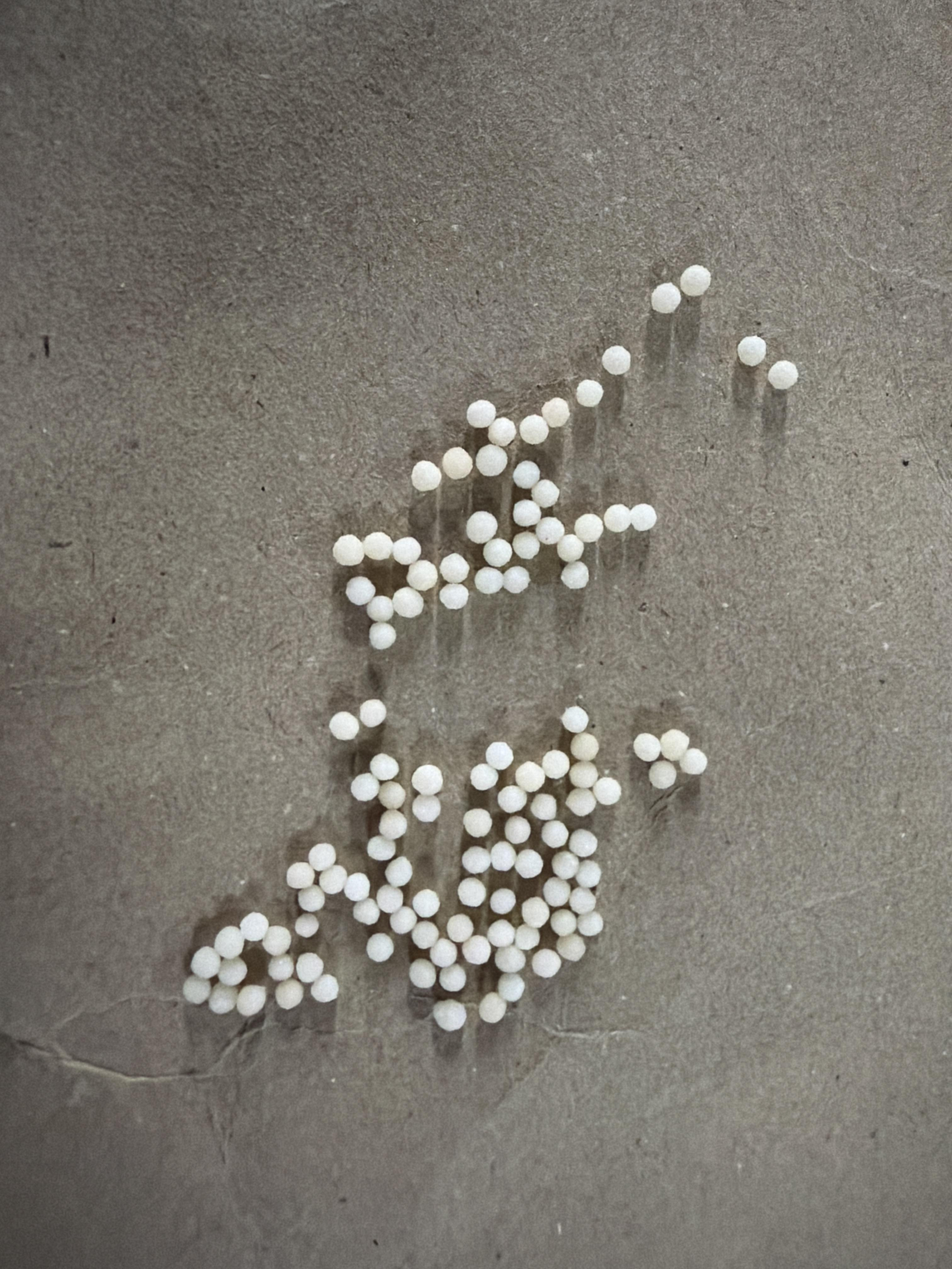pill: (763, 356, 826, 396), (436, 443, 476, 477), (578, 370, 607, 416), (604, 345, 645, 374), (241, 915, 282, 940), (538, 406, 581, 429), (463, 757, 497, 786), (471, 444, 504, 473), (409, 458, 439, 488), (345, 575, 377, 603), (302, 886, 334, 913), (529, 411, 552, 447), (461, 513, 502, 533), (316, 841, 346, 868), (447, 993, 470, 1028), (686, 268, 717, 292), (642, 770, 681, 789), (653, 280, 679, 308), (365, 532, 399, 553), (581, 734, 615, 755), (505, 970, 528, 1000), (373, 740, 399, 766), (409, 960, 433, 988), (313, 982, 345, 1003), (485, 748, 520, 767), (518, 570, 543, 596), (335, 532, 363, 555), (485, 992, 506, 1022), (290, 858, 315, 883), (560, 932, 586, 956), (546, 746, 568, 774), (513, 762, 541, 784), (371, 627, 407, 644), (349, 874, 375, 897), (214, 968, 247, 986), (559, 704, 596, 720), (505, 823, 536, 842), (189, 949, 218, 969), (409, 795, 441, 813), (450, 908, 475, 931), (371, 929, 394, 954), (277, 985, 303, 1007), (483, 579, 510, 600), (392, 589, 419, 610), (497, 784, 525, 804), (326, 863, 349, 887), (400, 915, 421, 941), (269, 930, 295, 951), (449, 875, 476, 895), (504, 502, 539, 517), (420, 798, 445, 819), (359, 899, 380, 924), (365, 841, 395, 858), (604, 505, 627, 527), (373, 811, 404, 827), (378, 787, 404, 806), (488, 882, 514, 901), (419, 762, 441, 784), (449, 971, 471, 993), (554, 828, 575, 851), (582, 863, 603, 886), (471, 940, 494, 961), (485, 922, 513, 939), (294, 956, 320, 973), (242, 985, 262, 1007), (530, 477, 553, 496), (554, 910, 577, 929), (371, 694, 387, 721), (464, 801, 482, 825), (447, 553, 467, 574), (534, 900, 554, 921), (365, 847, 400, 859), (293, 916, 319, 932), (444, 584, 468, 601), (464, 822, 495, 835), (578, 828, 598, 848), (471, 845, 489, 867), (442, 450, 460, 472), (579, 520, 602, 537), (628, 732, 651, 749), (545, 792, 562, 815), (604, 784, 628, 800), (535, 941, 553, 961), (219, 929, 243, 944), (390, 866, 419, 878), (560, 535, 579, 553), (274, 954, 292, 973), (468, 400, 492, 414), (371, 594, 392, 610), (655, 735, 677, 750), (521, 852, 543, 867), (521, 897, 539, 915), (576, 565, 593, 584), (582, 915, 598, 935), (504, 951, 525, 966), (384, 902, 412, 913), (490, 534, 507, 552), (425, 883, 442, 901), (519, 537, 538, 553), (494, 428, 514, 443), (630, 509, 647, 526), (575, 797, 599, 809), (510, 460, 529, 475), (540, 529, 563, 541), (546, 891, 569, 903), (441, 938, 453, 961), (340, 713, 353, 733), (400, 539, 418, 553), (689, 756, 705, 771), (227, 992, 242, 1008), (519, 812, 533, 829), (752, 320, 757, 366), (581, 882, 593, 901), (239, 910, 254, 925), (353, 771, 369, 785), (557, 847, 570, 864), (420, 926, 441, 936), (194, 981, 207, 997), (526, 927, 538, 944), (490, 853, 510, 863), (578, 767, 596, 775)
